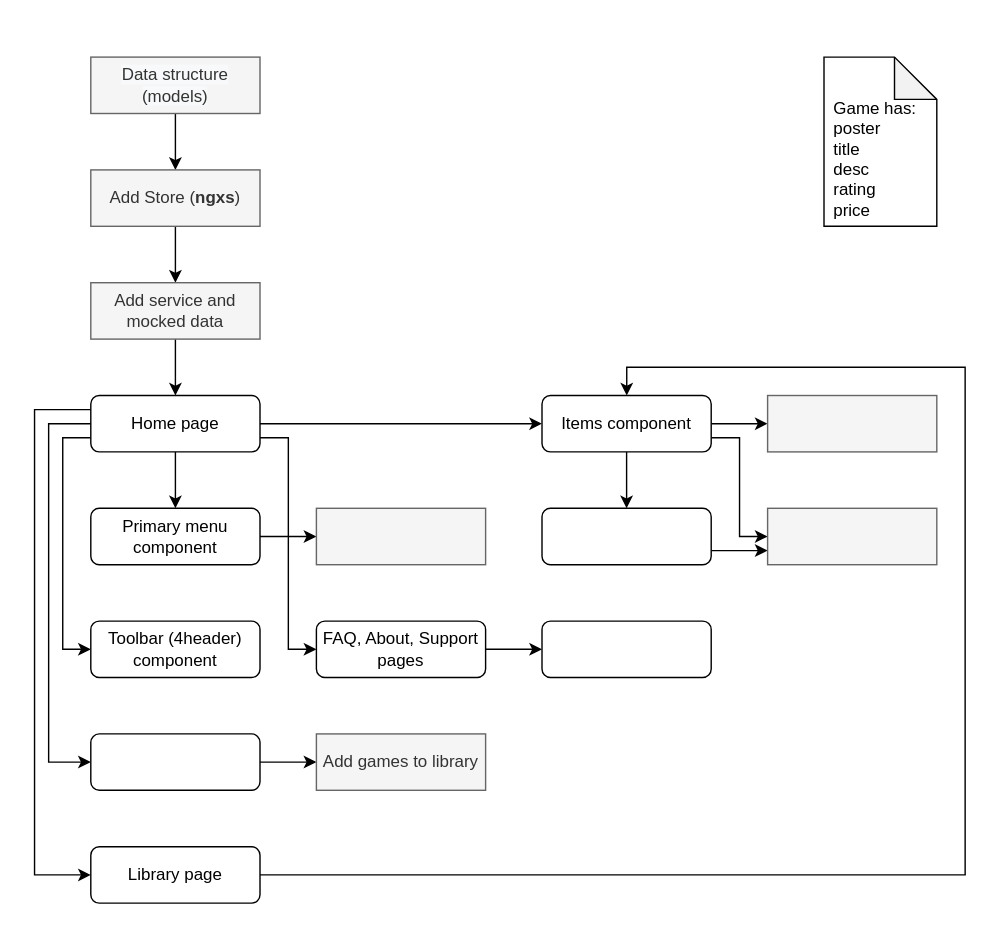
The diagram is 1001 pixels wide and 928 high, and some of its shapes have lost their labels. Here are the shapes that lost their labels. From the top down, the box of each, then its label:
(766, 394, 937, 452): Grid / list view
(315, 507, 486, 565): Add categories and filter by them
(541, 507, 711, 565): Item component
(766, 507, 937, 565): Add games to cart
(541, 620, 711, 678): My profile pages
(89, 732, 260, 790): Shopping cart page
